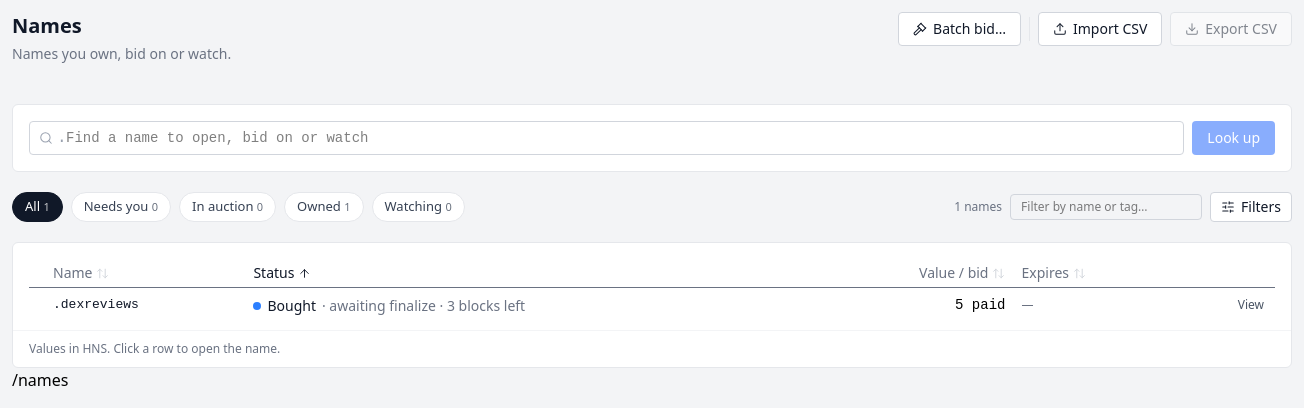
Test: NamesView purchases › a purchase row's click does what View does: Market, not the name page
Click the row with test id "names-row".
click(652, 305)  # box [29,288,1275,322]
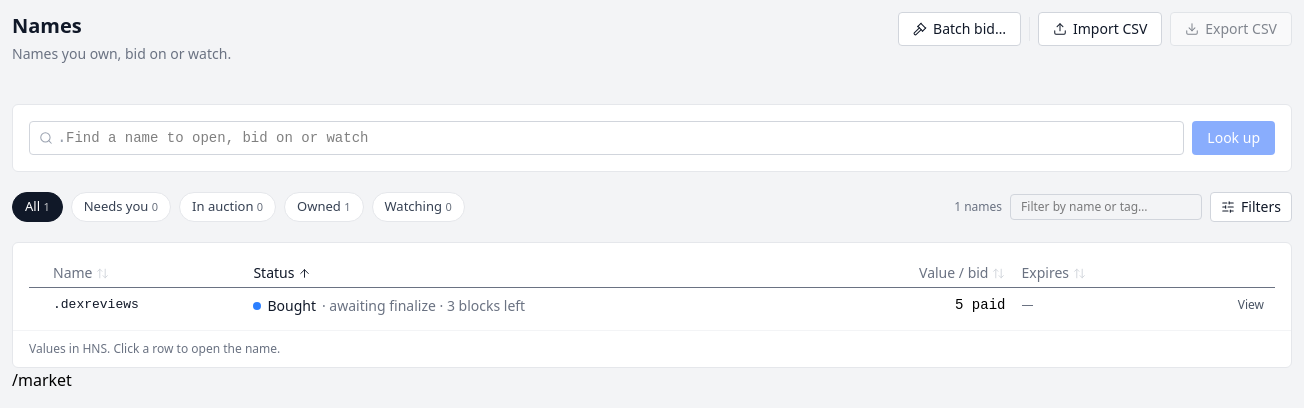
expect the text with test id "where" reads "/market": met, box [12,369,72,391]
